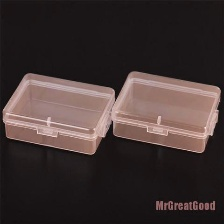plastic_box: (104, 64, 224, 158), (0, 66, 120, 159)
